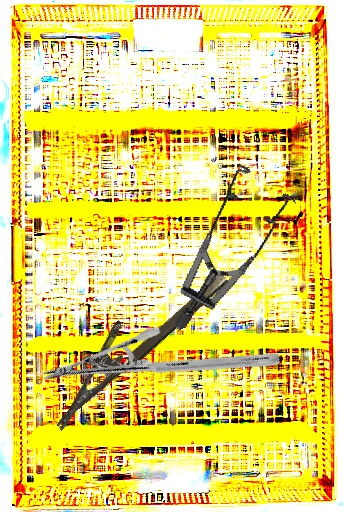Needle Holder: (39, 258, 284, 476), (31, 249, 231, 431)
Speculum: (123, 148, 324, 332)
